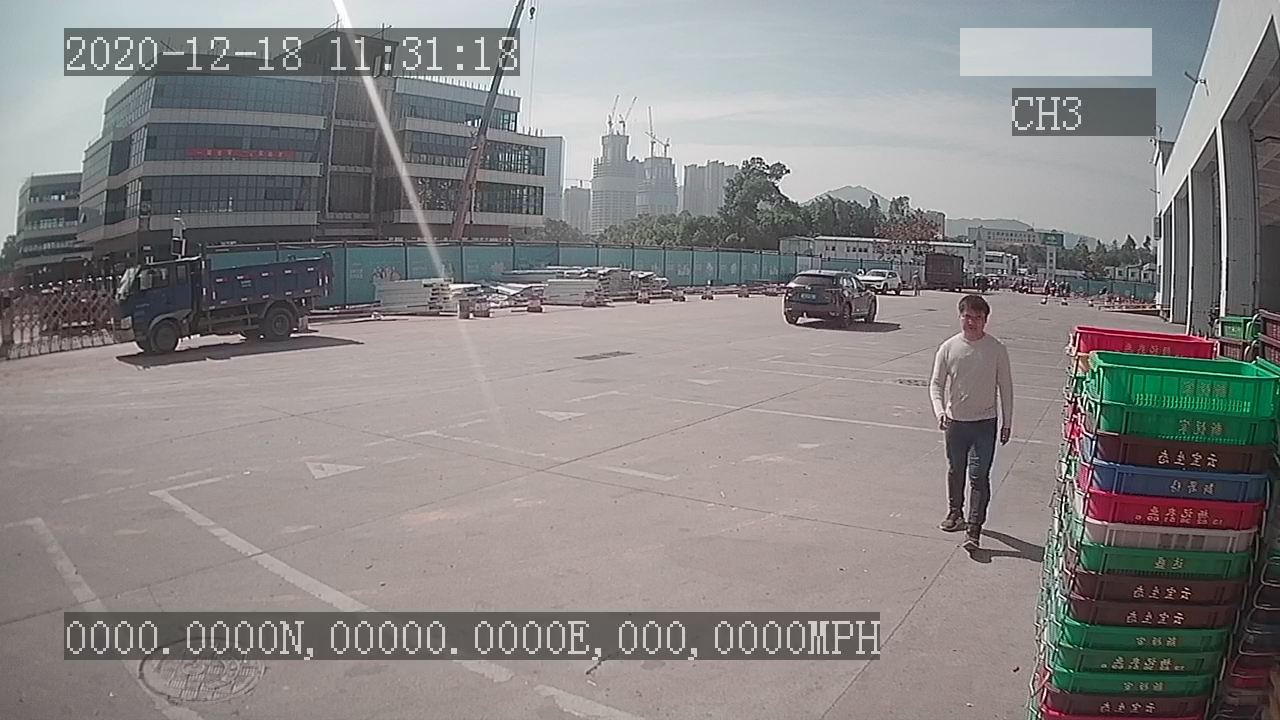person: (930, 292, 1015, 553)
